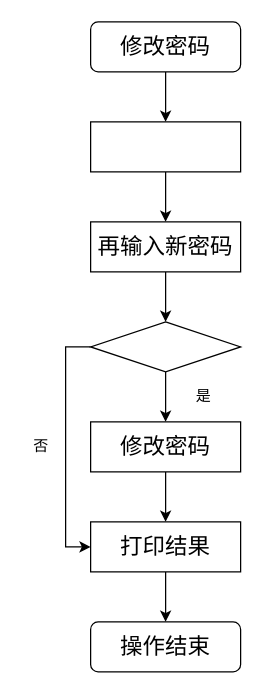
This 263x694 diagram has some shape labels left out. The shapes that lost their labels are listed below. From the top down, each one's box as (x1, y1, x2, y2) in pixels, then its label:
(89, 121, 241, 172): 输入新密码
(89, 321, 241, 372): 两次一致
